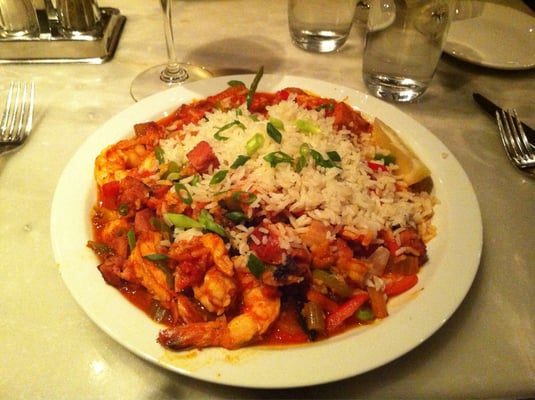pizza: (287, 0, 360, 52)
sandwich: (473, 92, 535, 171)
